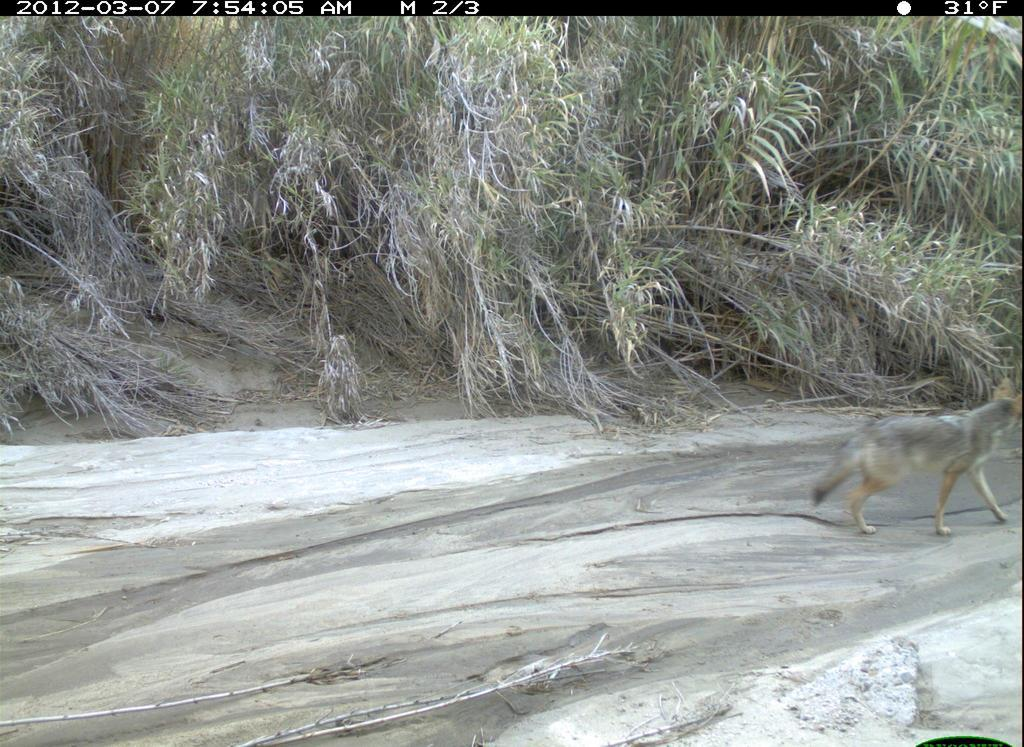coyote: (803, 372, 1023, 547)
